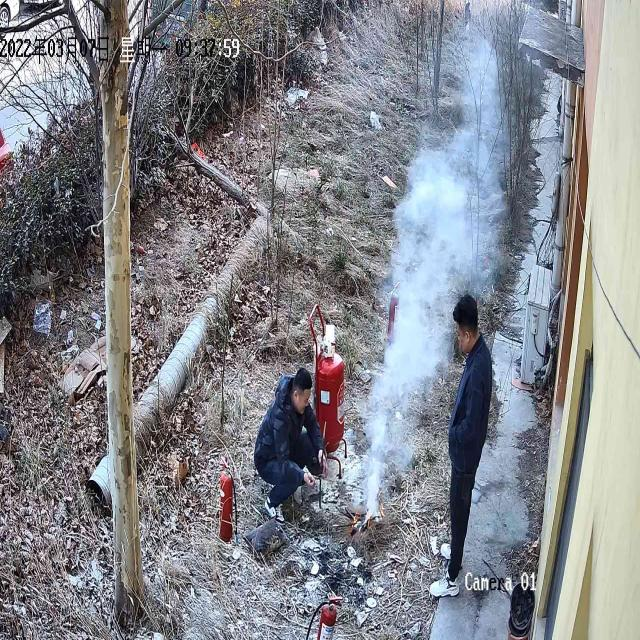Fire: (350, 496, 388, 554)
Smoke: (360, 23, 513, 456)
